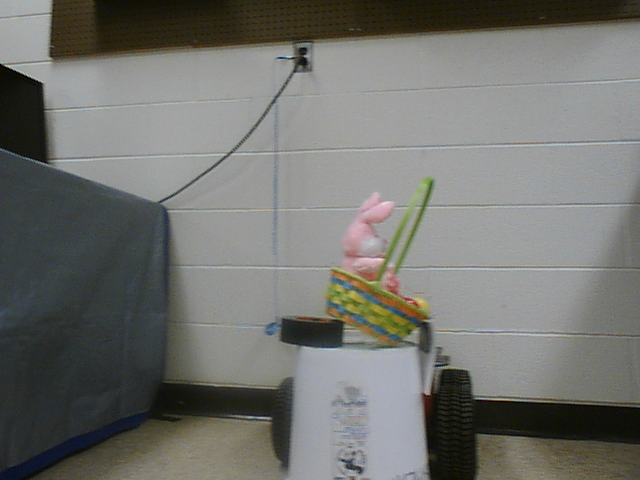bunny: (320, 166, 444, 348)
